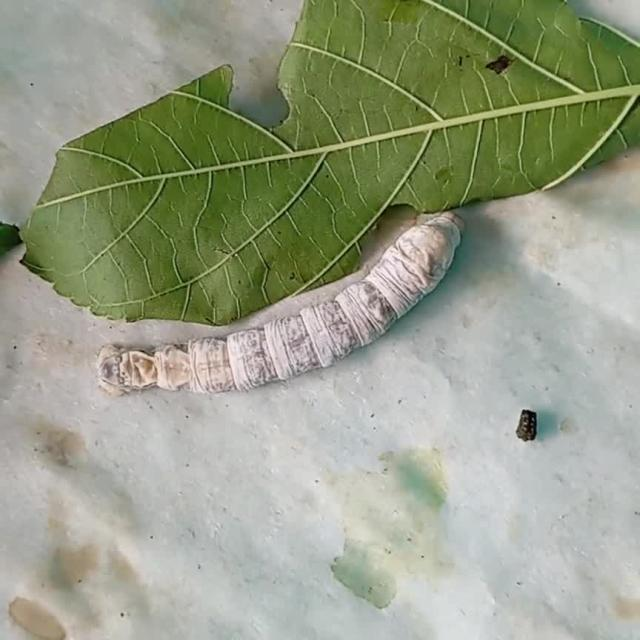Grasserie: (82, 182, 484, 422)
